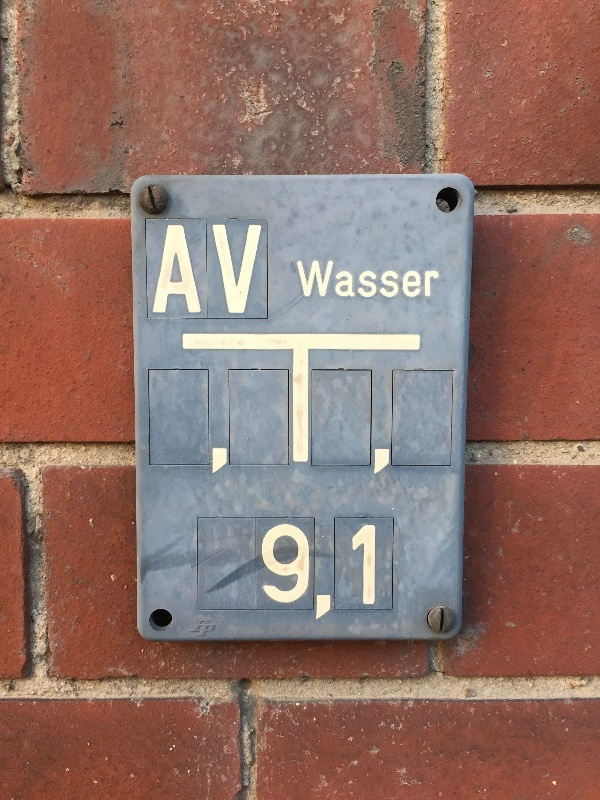text: (273, 525, 288, 622), (289, 525, 304, 622), (305, 525, 320, 622), (321, 525, 336, 622), (337, 525, 352, 622), (353, 525, 368, 622), (177, 225, 192, 314), (193, 225, 208, 314), (209, 225, 224, 314), (225, 225, 240, 314), (241, 225, 256, 314), (262, 525, 272, 622), (168, 225, 176, 314), (369, 525, 376, 622), (305, 260, 320, 300), (321, 260, 336, 300), (337, 260, 352, 300), (353, 260, 368, 300), (369, 260, 384, 300), (385, 260, 400, 300), (401, 260, 416, 300), (417, 260, 432, 300), (257, 225, 262, 314), (296, 260, 304, 300), (433, 260, 439, 300)
